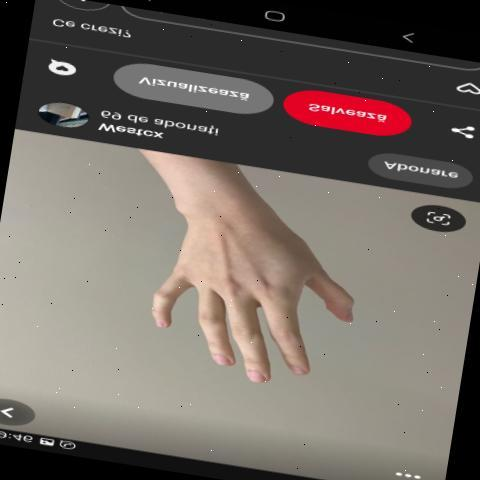Hands: (91, 212, 375, 436)
